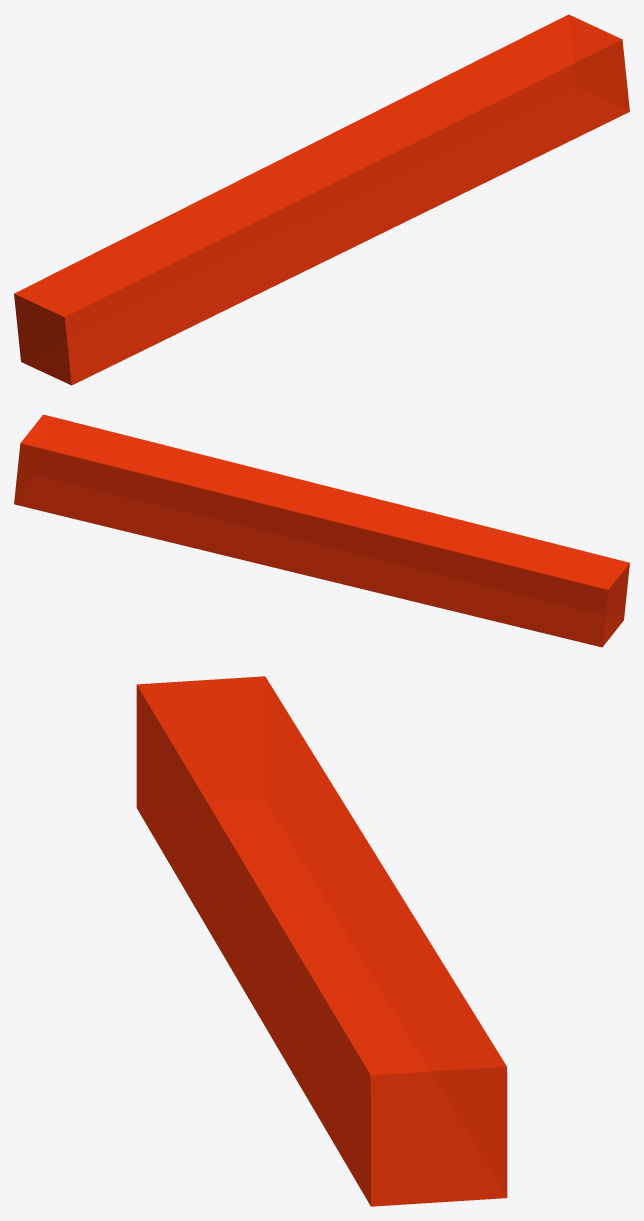
Rendered from Event_421364160_EErechit_39.fbx.
3 views of the same model, one above another, from view 1: azimuth 30°, elevation 25°; view 2: azimuth 150°, elevation 25°; view 3: azimuth 270°, elevation 25° (orthographic). The views are drawn at different scales.
Visible parts, largest first — view 1: Model; view 2: Model; view 3: Model.
Part boxes in pixels (x1=…): Model: x1=14, y1=14, x2=629, y2=385; Model: x1=14, y1=414, x2=629, y2=647; Model: x1=136, y1=676, x2=507, y2=1206.
Bounding box in the file's own units: 0.6975 × 0.1496 × 0.2054.
